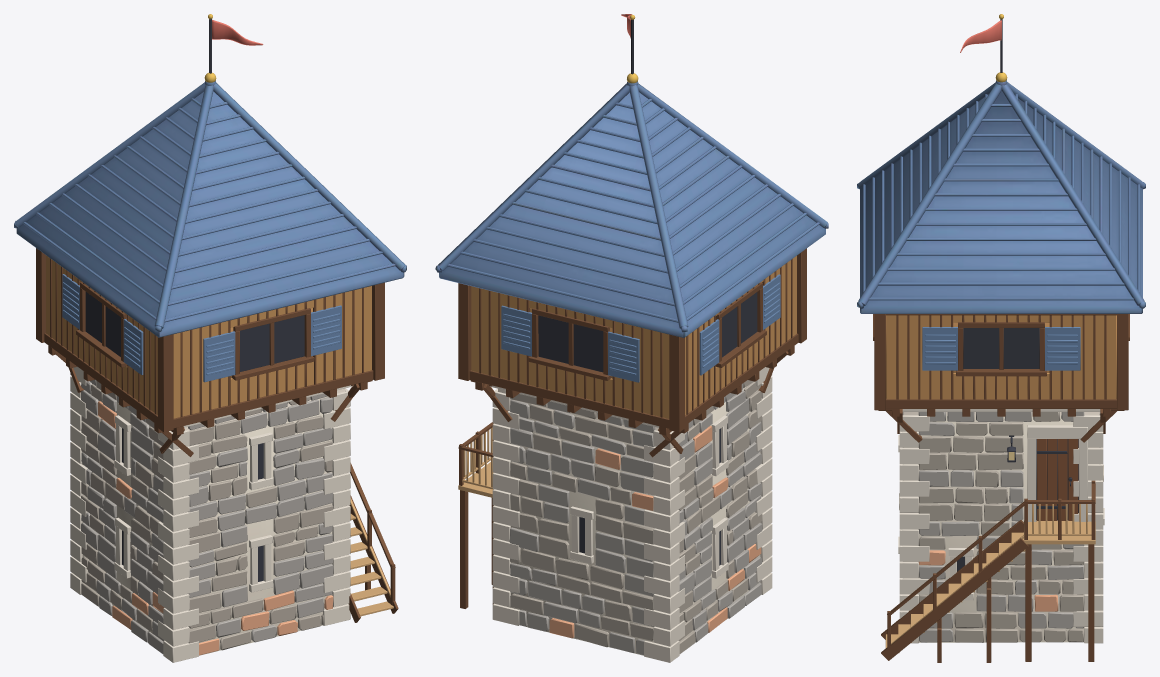
File: arch_watchtower.glb
The picture shows the model from 3 angles, left to right: view 1: azimuth 30°, elevation 25°; view 2: azimuth 150°, elevation 25°; view 3: azimuth 270°, elevation 25°; orthographic projection.
Visible parts, largest first — view 1: guard-tower_body, guard-tower_details, guard-tower_stonework, guard-tower_pennant; view 2: guard-tower_body, guard-tower_details, guard-tower_stonework; view 3: guard-tower_body, guard-tower_details, guard-tower_stonework, guard-tower_door, guard-tower_pennant.
Boxes of the visible parts, <box> form: guard-tower_body: <box>14,81,406,655</box>; guard-tower_details: <box>36,14,398,662</box>; guard-tower_stonework: <box>81,379,333,655</box>; guard-tower_pennant: <box>212,19,263,45</box>; guard-tower_body: <box>435,81,828,655</box>; guard-tower_details: <box>458,14,806,662</box>; guard-tower_stonework: <box>509,380,762,655</box>; guard-tower_body: <box>857,80,1145,642</box>; guard-tower_details: <box>873,14,1129,662</box>; guard-tower_stonework: <box>902,412,1100,642</box>; guard-tower_door: <box>1037,439,1078,520</box>; guard-tower_pennant: <box>960,20,1001,52</box>.
Size of the model in its own units: 6.49 by 14.41 by 6.43.
Materials: 15 (1 with a texture image).
